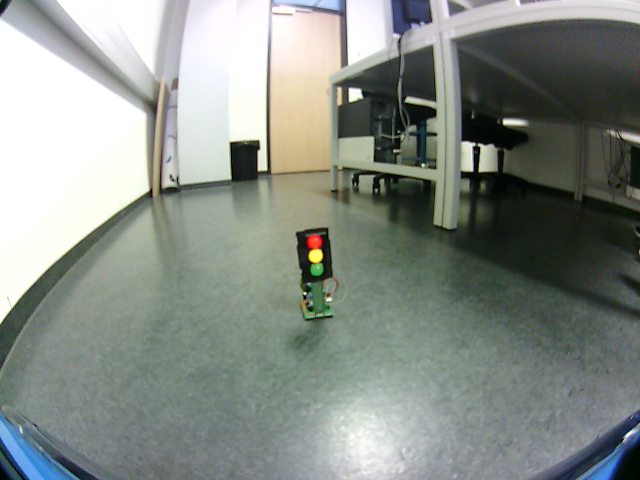red yellow trafficlight: (301, 231, 330, 277)
